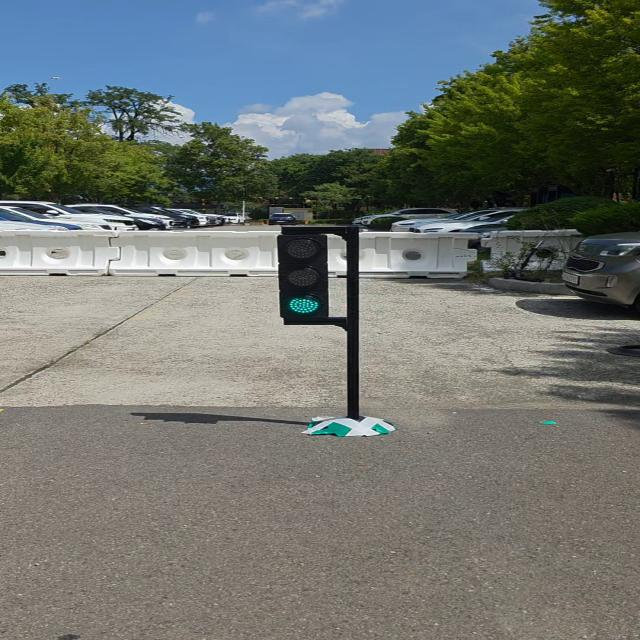green: (276, 226, 334, 322)
